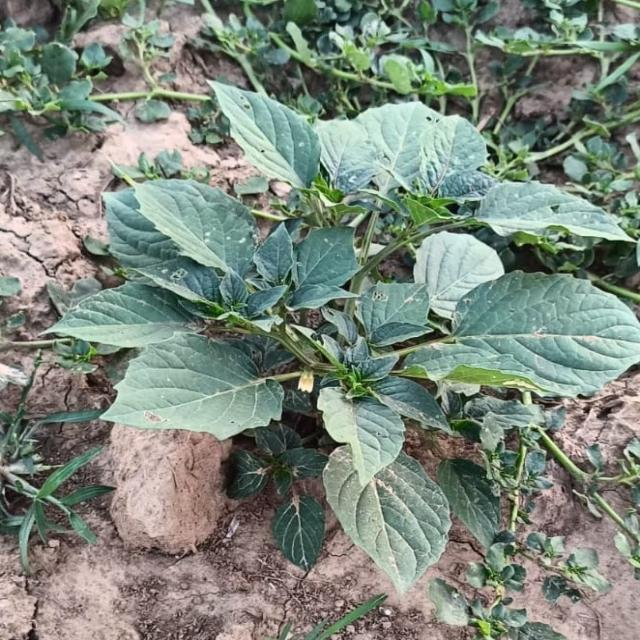weed: (48, 81, 640, 594)
